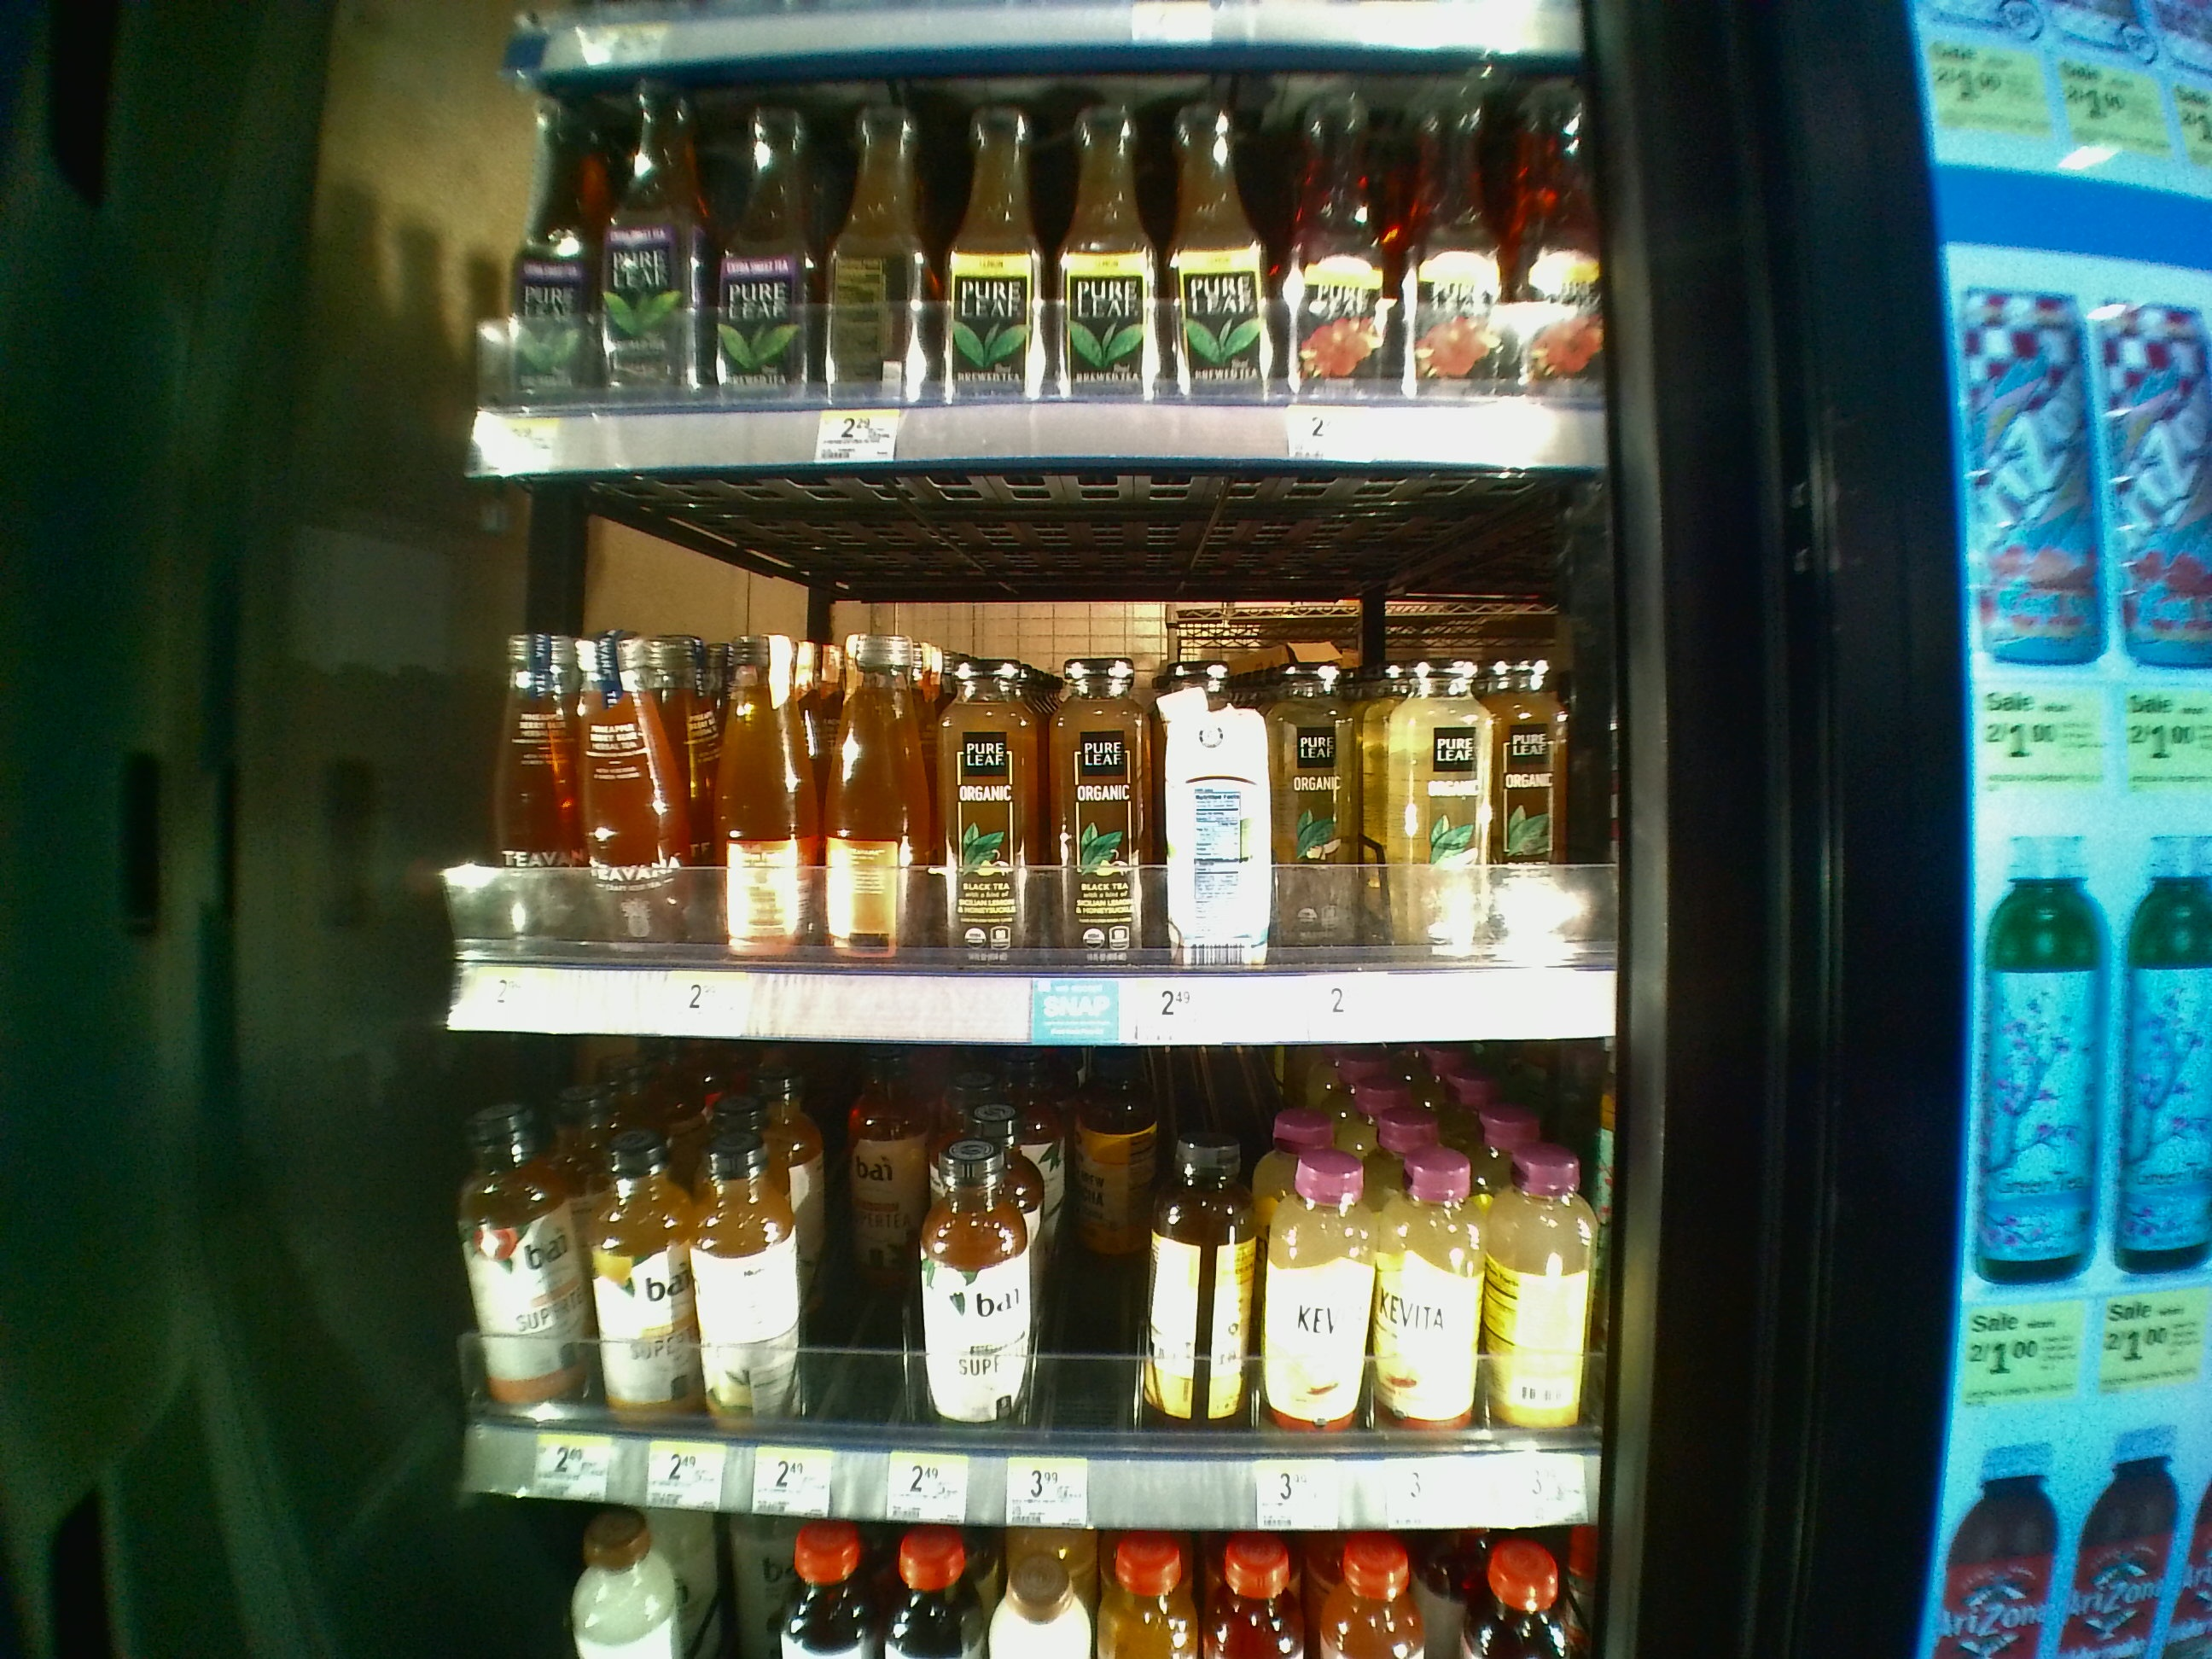shelf: (446, 495, 1611, 1044), (449, 1065, 1618, 1520), (455, 82, 1629, 477)
